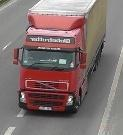truck: (13, 0, 107, 114)
